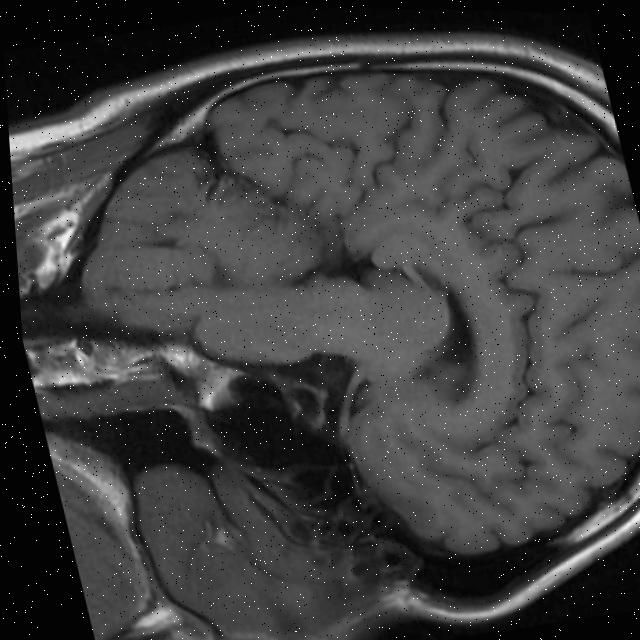NoTumor: (25, 1, 640, 640)
